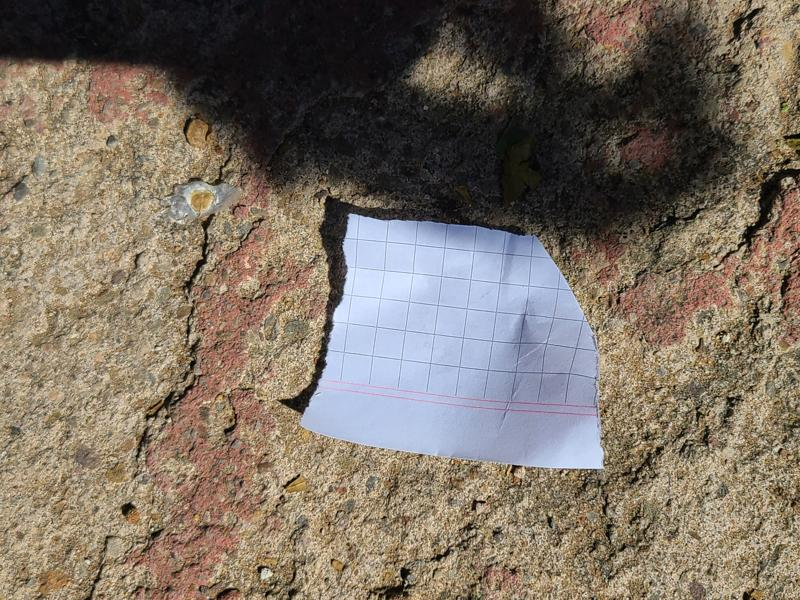papel: (301, 212, 606, 472)
